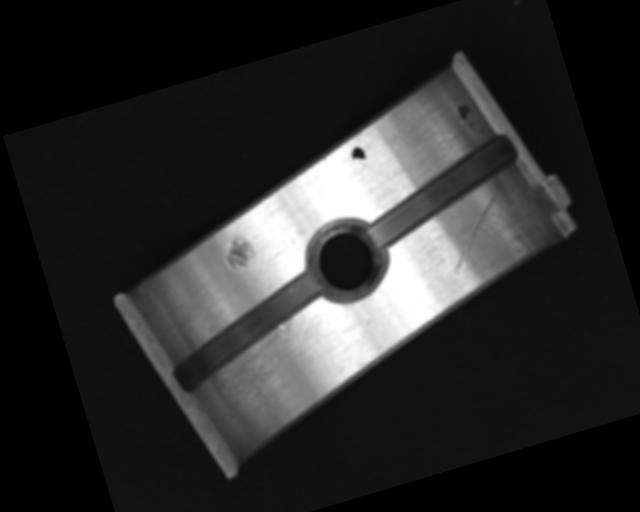blot: (455, 100, 478, 131), (349, 143, 370, 169)
bruise: (219, 226, 259, 272)
gap: (157, 268, 339, 395), (352, 131, 532, 251)
hole: (300, 211, 391, 308)
nick: (435, 193, 515, 277)
scratch: (188, 303, 342, 430)
